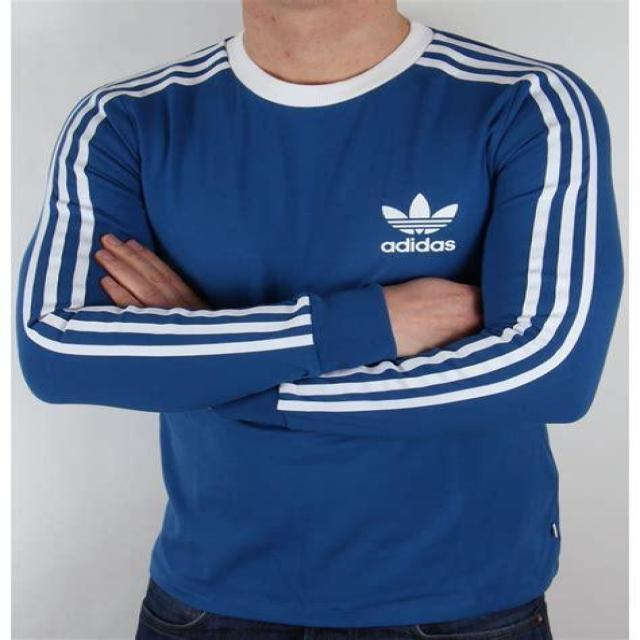sweater: (18, 15, 626, 626)
